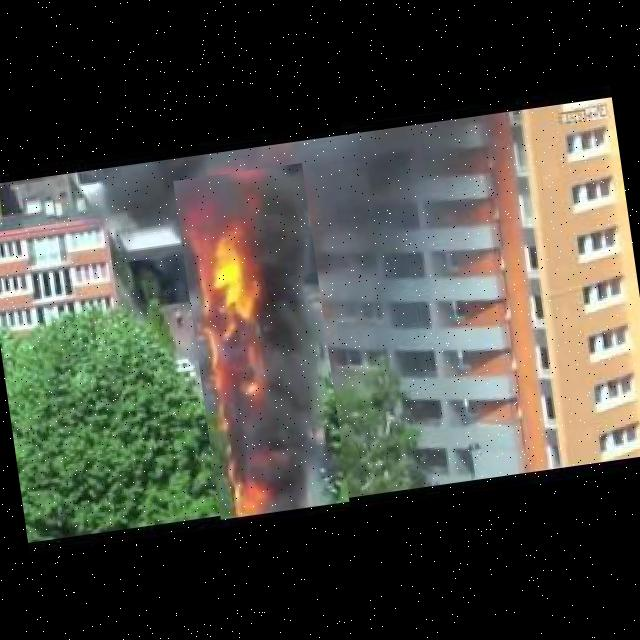fire: (173, 163, 350, 524)
